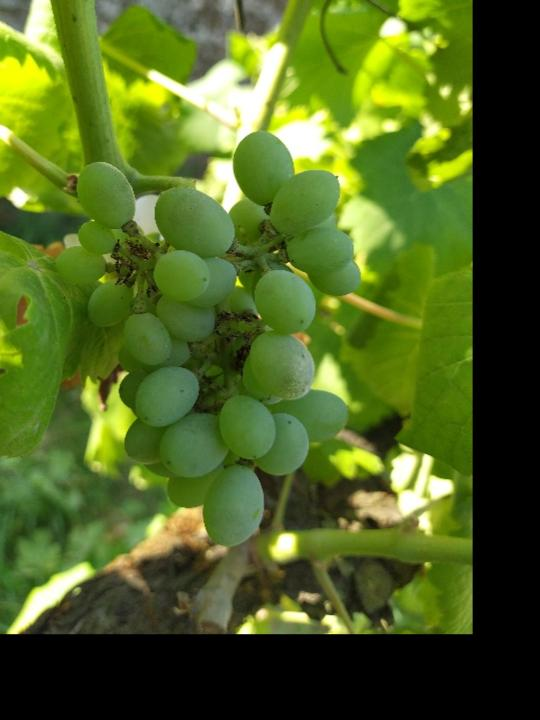grape: (51, 123, 367, 551)
